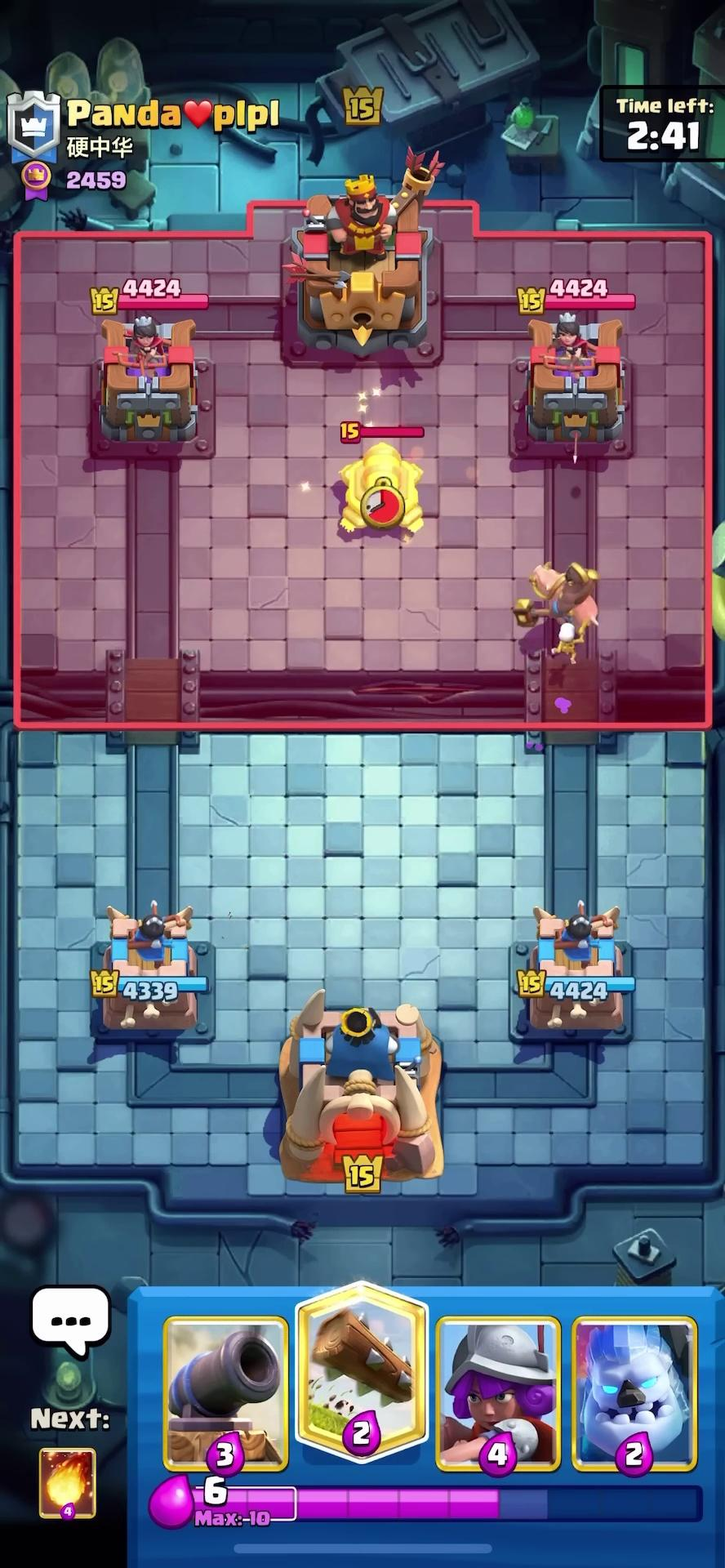hog_rider: (504, 557, 625, 643)
skeletons: (545, 608, 590, 662)
